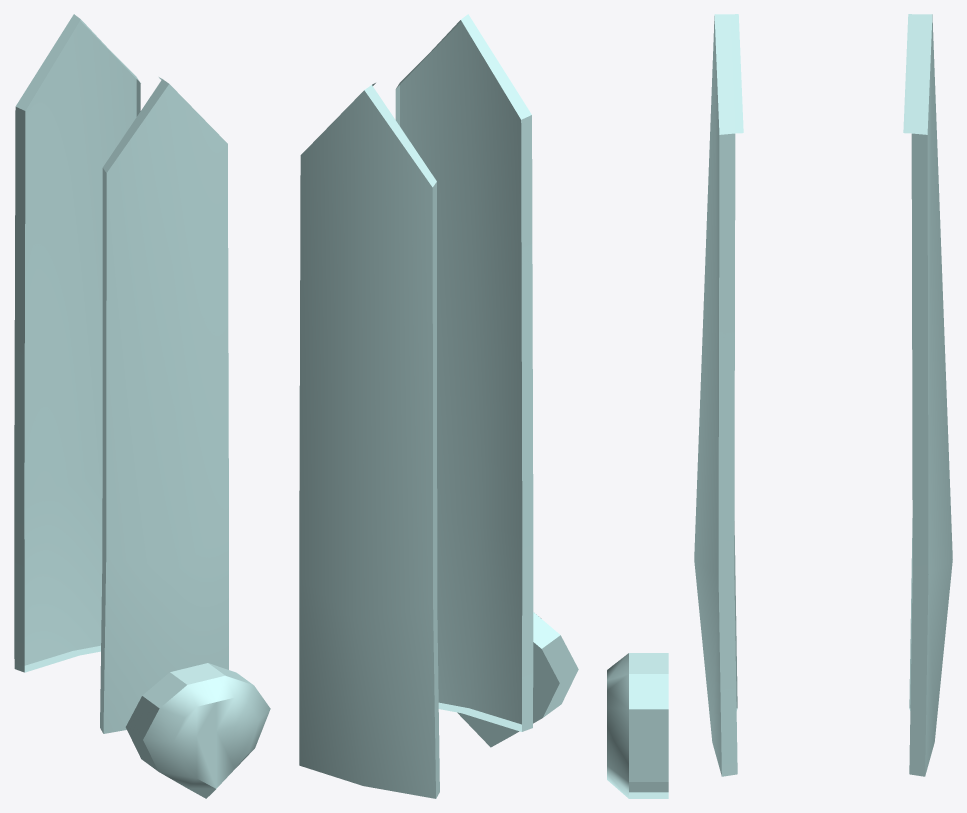
Rendered from diamond.fbx.
3 renders of one model, left to right at view 1: azimuth 30°, elevation 25°; view 2: azimuth 150°, elevation 25°; view 3: azimuth 270°, elevation 25°, orthographic. The views are drawn at different scales.
Visible parts, largest first — view 1: diamond3; view 2: diamond3; view 3: diamond3.
Part boxes in pixels (x1,y1,x2,y2): diamond3: (14,14,270,798); diamond3: (299,14,578,798); diamond3: (607,14,952,798).
Bounding box in the file's own units: 6.78 × 34.91 × 13.93.
